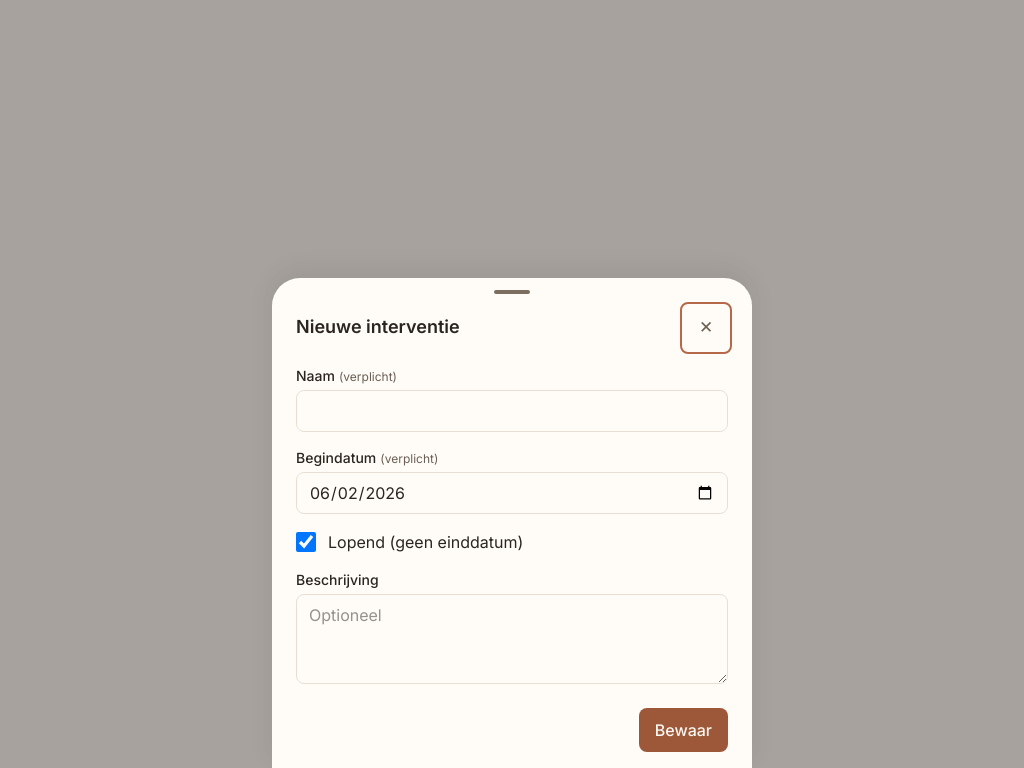
Test: <EpisodeFormSheet /> › create mode › toggling lopend OFF reveals the end_date input
Click the checkbox labelled "Lopend (geen einddatum)": (306, 542) [296, 532, 316, 552]
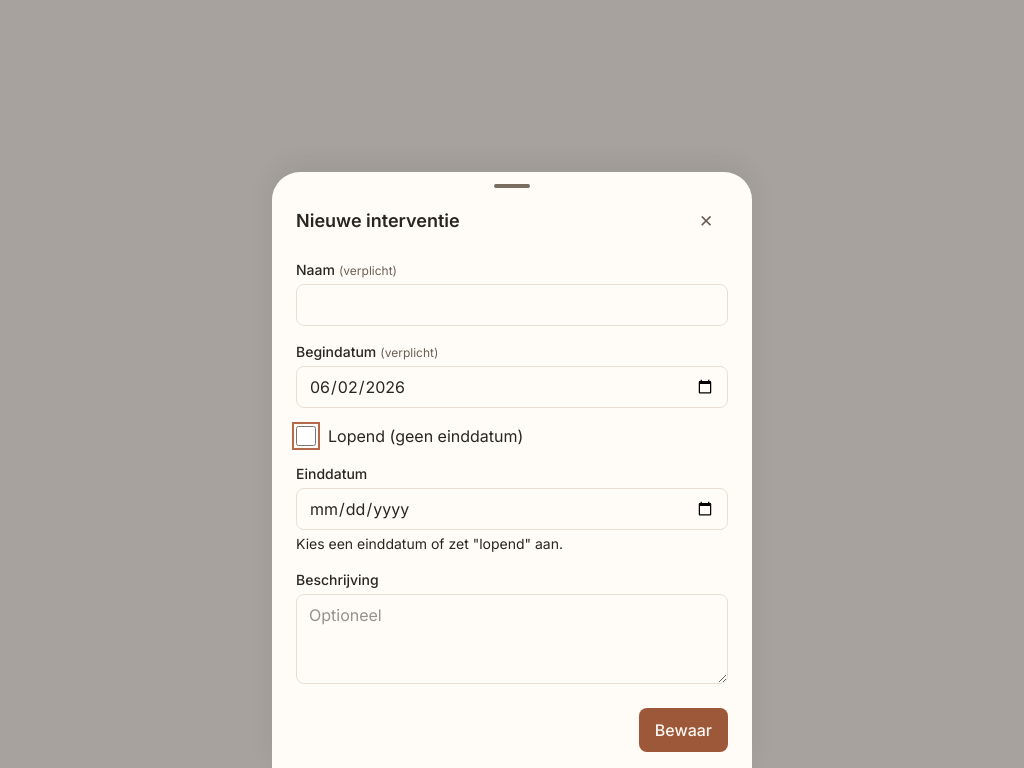
Expected: the date field labelled "Einddatum" is shown, [296, 488, 728, 530]
